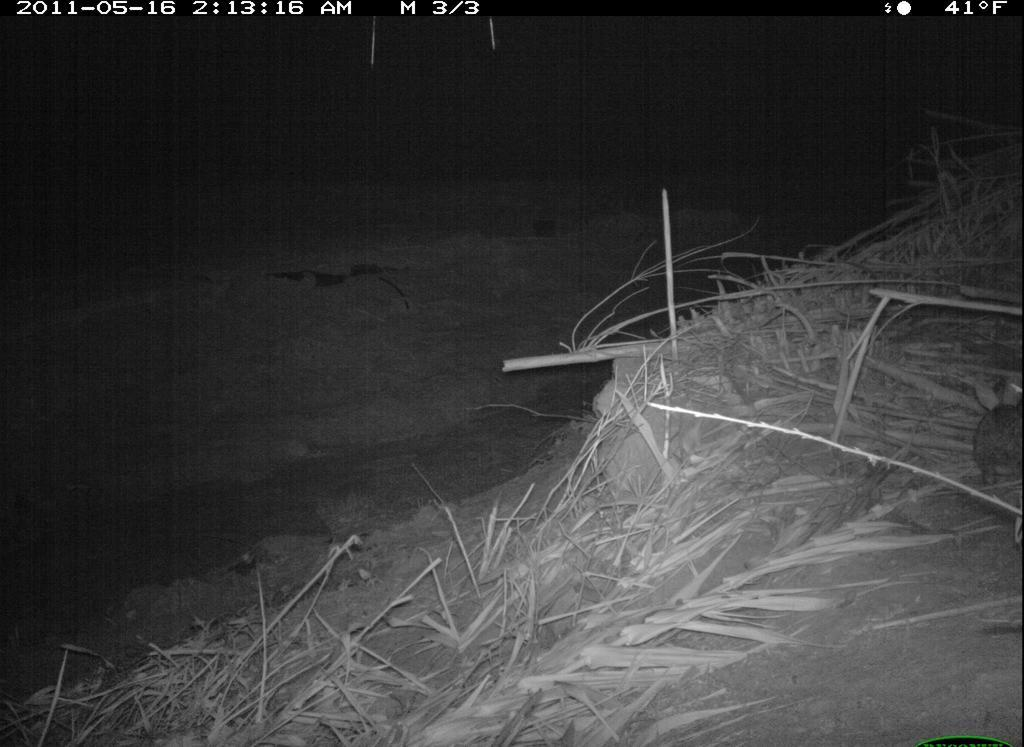rabbit: (968, 367, 1023, 490)
